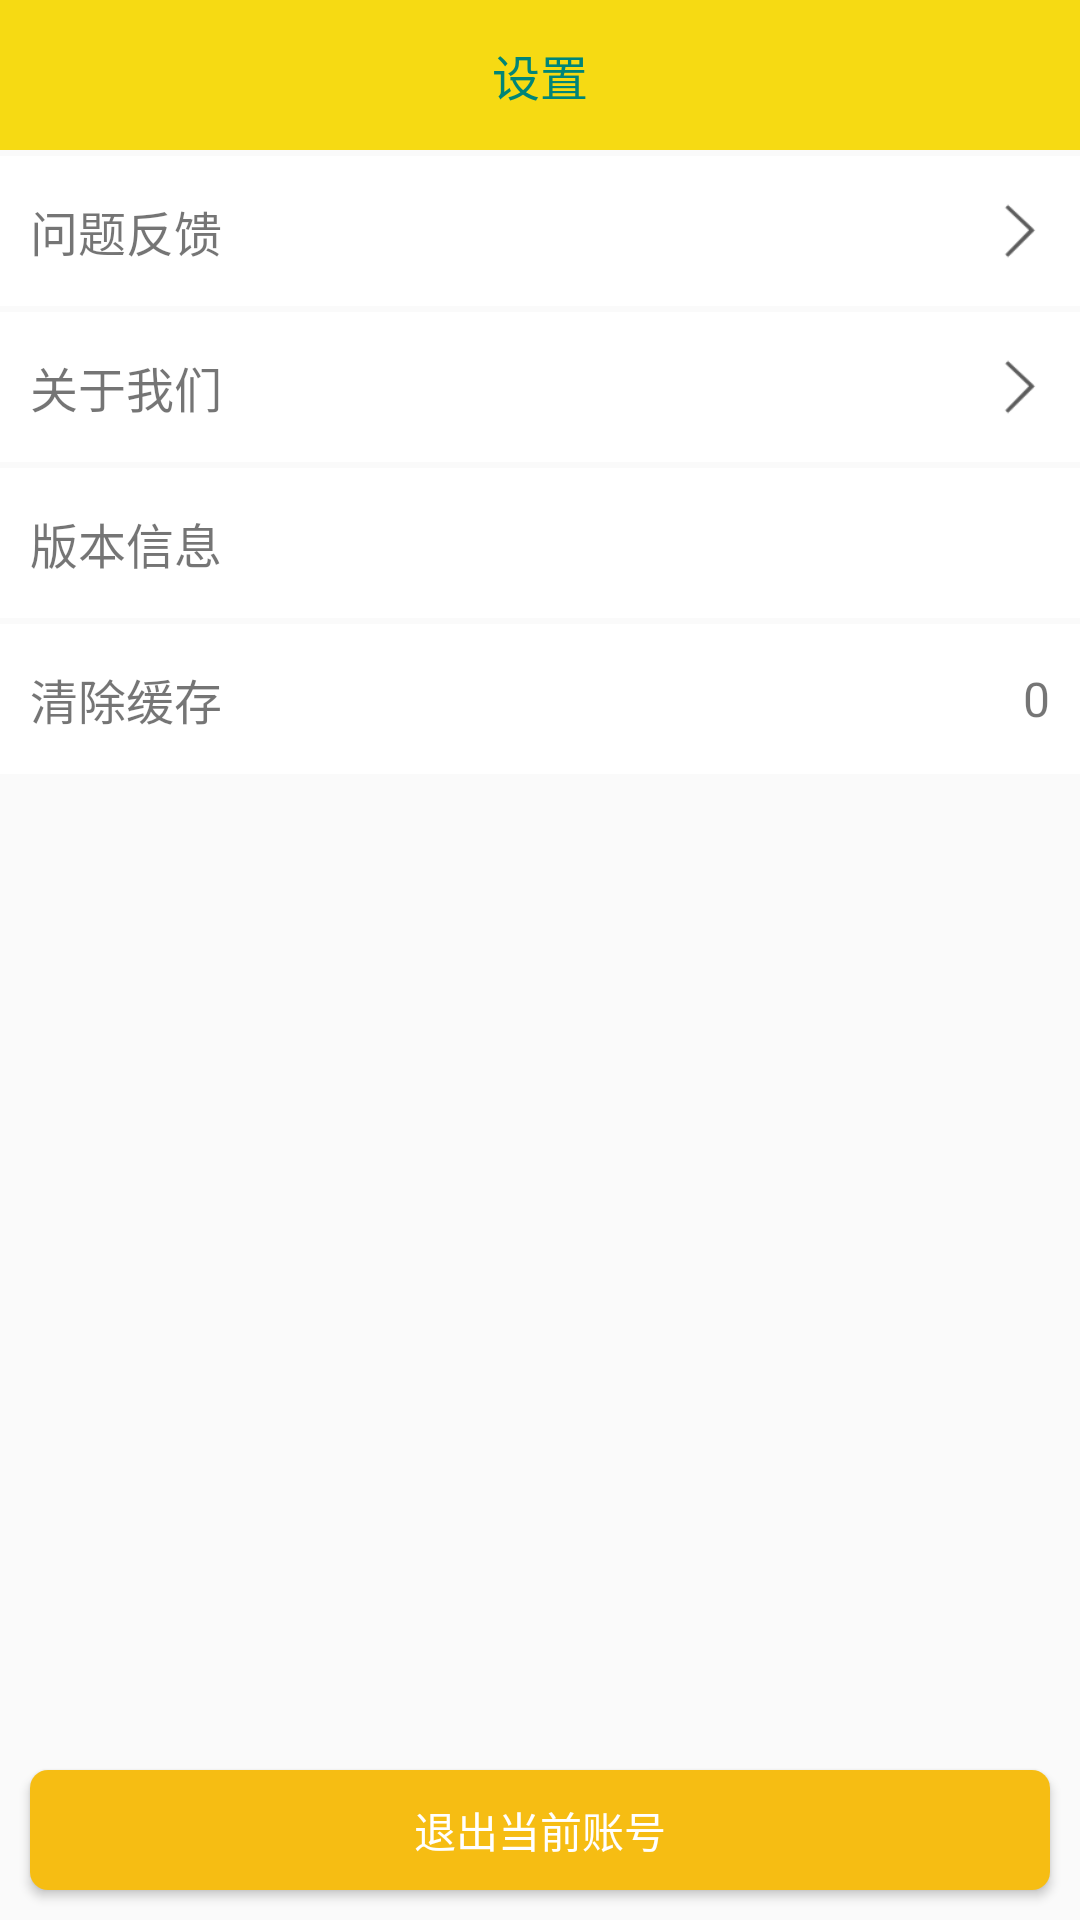

Locate icon controls on the screen. Image size 1080px×1920px, boxes as BBox(x1, y1, x2, y2).
right: BBox(1005, 205, 1035, 257), BBox(1005, 361, 1035, 413)
